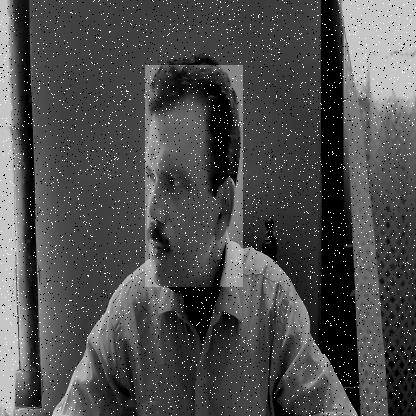Distracted: (146, 65, 244, 287)
